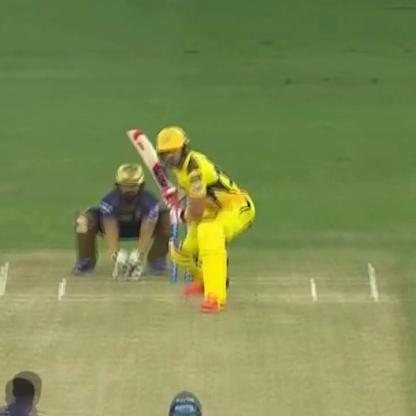ball: (74, 213, 94, 227), (72, 227, 90, 238)
bat: (125, 115, 185, 224)
pitch: (0, 249, 413, 416)
